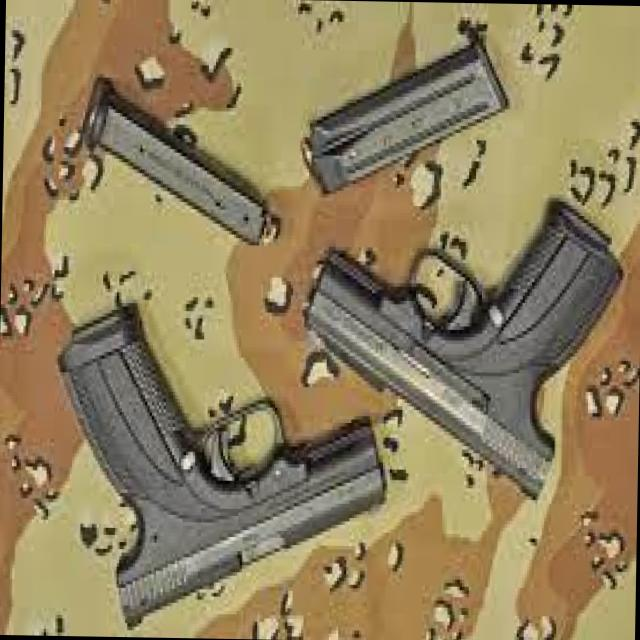Gun: (63, 285, 392, 636), (299, 186, 628, 514)
